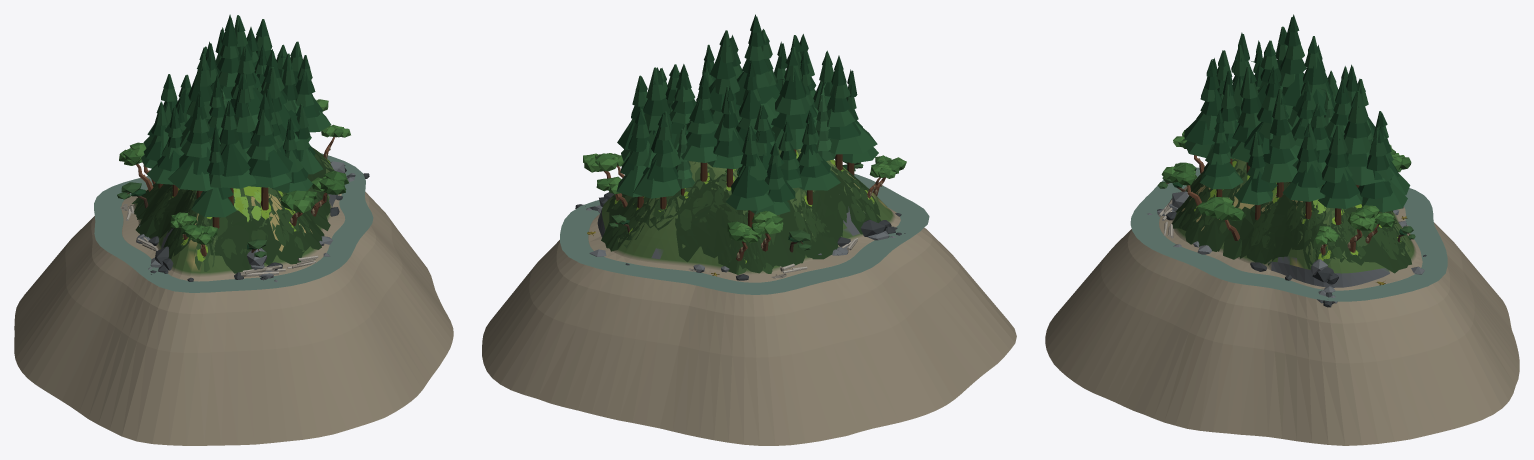
File: chunk_-2_4.glb
3 views of the same model, side by side, from view 1: azimuth 30°, elevation 25°; view 2: azimuth 150°, elevation 25°; view 3: azimuth 270°, elevation 25° (orthographic). The views are drawn at different scales.
Visible parts, largest first — view 1: chunk_-2_4; view 2: chunk_-2_4; view 3: chunk_-2_4.
Boxes of the visible parts, box(x1,y1,x2,y2) form: chunk_-2_4: box(14, 14, 453, 445); chunk_-2_4: box(482, 14, 1016, 445); chunk_-2_4: box(1045, 14, 1519, 445).
Bounding box in the file's own units: 98.74 × 75.35 × 97.33.
